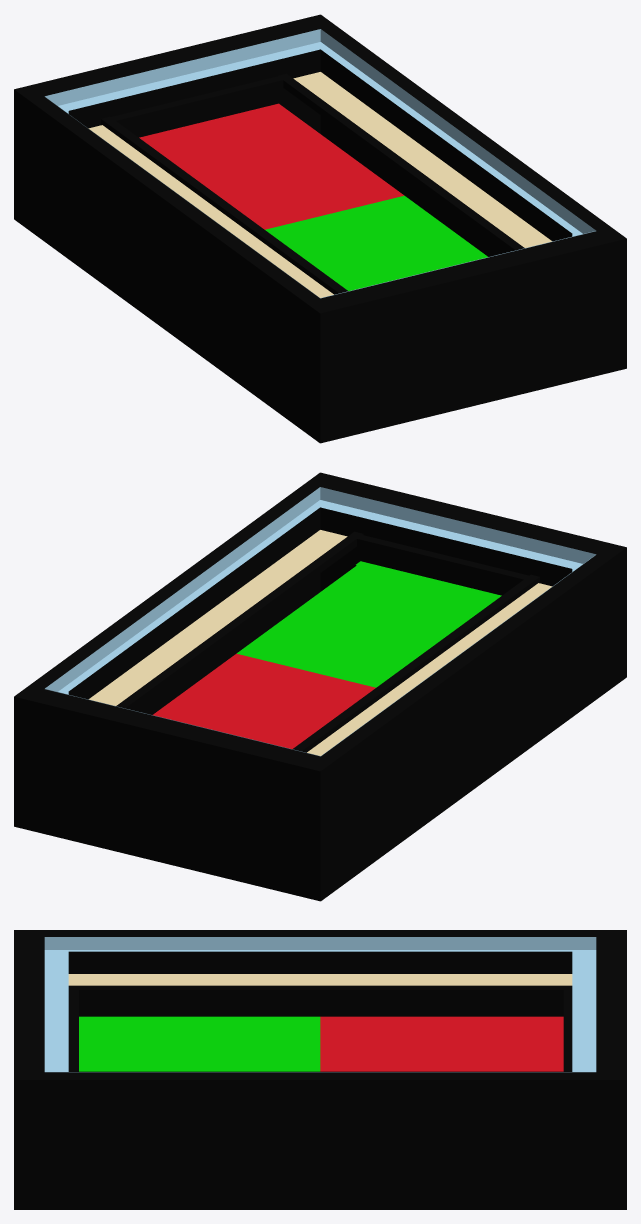
The model's file is Switch.gltf.
3 views of the same model, one above another, from view 1: azimuth 30°, elevation 25°; view 2: azimuth 150°, elevation 25°; view 3: azimuth 270°, elevation 25° (orthographic).
Parts seen in each view (by area): view 1: Корпус, Положение вкл, Корпус.001, Положение выкл, Фон переключателя, Рамка; view 2: Корпус, Положение выкл, Корпус.001, Положение вкл, Фон переключателя, Рамка; view 3: Корпус, Корпус.001, Положение вкл, Положение выкл, Рамка, Фон переключателя.
Part boxes in pixels (x1=…): Корпус: x1=14, y1=14, x2=626, y2=443; Положение вкл: x1=139, y1=103, x2=403, y2=229; Корпус.001: x1=44, y1=29, x2=595, y2=298; Положение выкл: x1=265, y1=195, x2=487, y2=290; Фон переключателя: x1=88, y1=72, x2=551, y2=297; Рамка: x1=101, y1=73, x2=524, y2=294; Корпус: x1=14, y1=472, x2=626, y2=901; Положение выкл: x1=237, y1=561, x2=501, y2=687; Корпус.001: x1=45, y1=487, x2=596, y2=756; Положение вкл: x1=153, y1=653, x2=375, y2=748; Фон переключателя: x1=89, y1=530, x2=552, y2=755; Рамка: x1=116, y1=531, x2=539, y2=752; Корпус: x1=14, y1=930, x2=626, y2=1209; Корпус.001: x1=44, y1=937, x2=596, y2=1072; Положение вкл: x1=320, y1=1016, x2=563, y2=1071; Положение выкл: x1=79, y1=1016, x2=320, y2=1071; Рамка: x1=68, y1=985, x2=572, y2=1071; Фон переключателя: x1=68, y1=974, x2=572, y2=985.
Size of the model in its own units: 0.3306 by 0.1343 by 0.5715.
